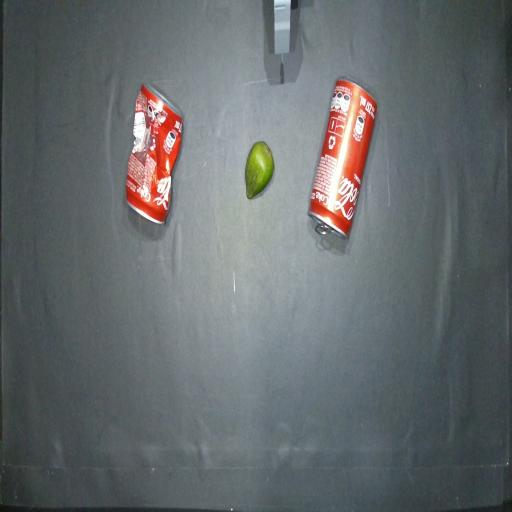higo: (245, 141, 274, 199)
lata: (308, 79, 377, 238)
lata_defectuoso: (126, 86, 182, 223)
